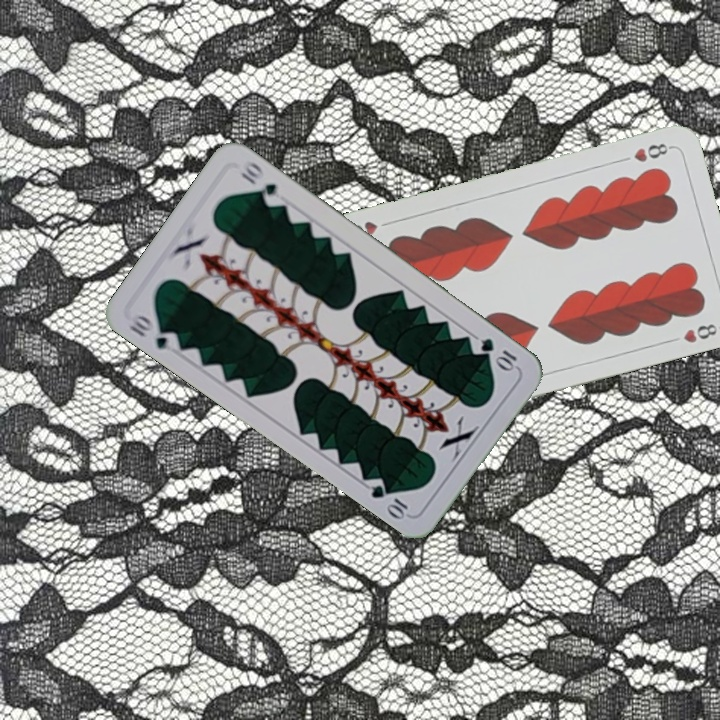G10: (125, 309, 182, 352), (476, 333, 520, 373)
H8: (629, 139, 675, 165)
